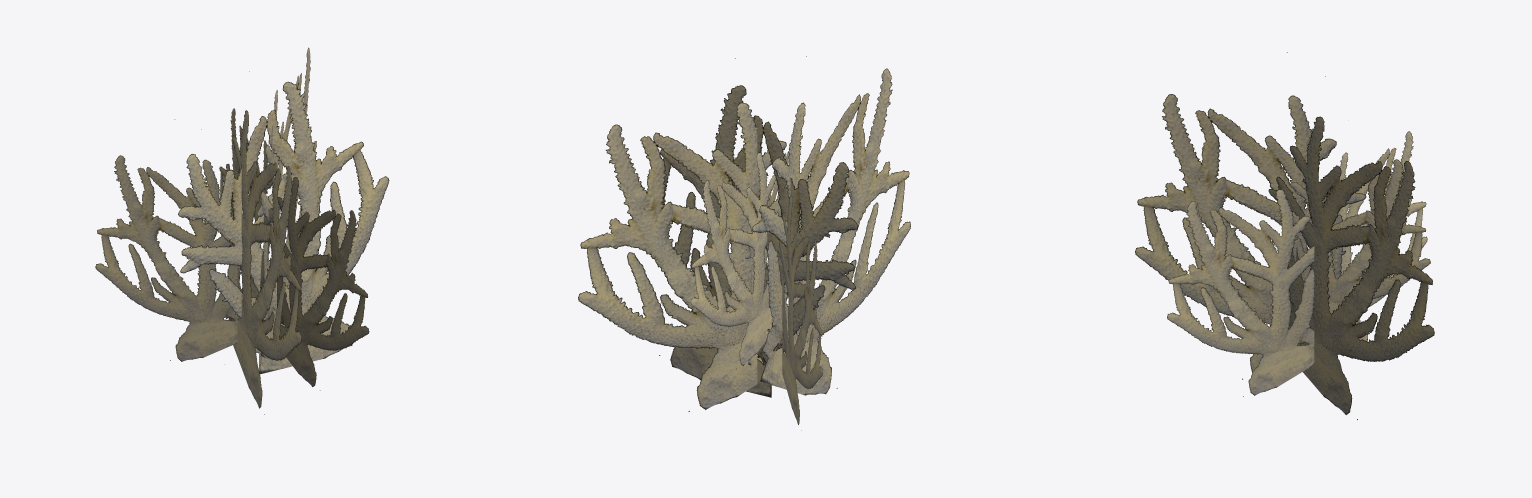
The model's file is Staghorn Coral.FBX.
The picture shows the model from 3 angles, left to right: view 1: azimuth 30°, elevation 25°; view 2: azimuth 150°, elevation 25°; view 3: azimuth 270°, elevation 25°; orthographic projection. The views are drawn at different scales.
Parts seen in each view (by area): view 1: Staghorn coral; view 2: Staghorn coral; view 3: Staghorn coral.
Boxes of the visible parts, x1,y1,x2,y2 form: Staghorn coral: (95, 47, 389, 414); Staghorn coral: (578, 56, 910, 430); Staghorn coral: (1135, 52, 1434, 419).
Bounding box in the file's own units: 48.42 × 54.64 × 59.29.
Materials: 1 (1 with a texture image).
